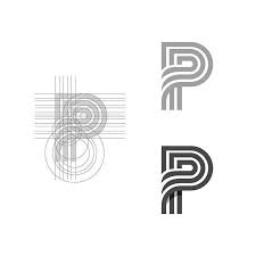p: (151, 35, 215, 121), (154, 139, 216, 219)
